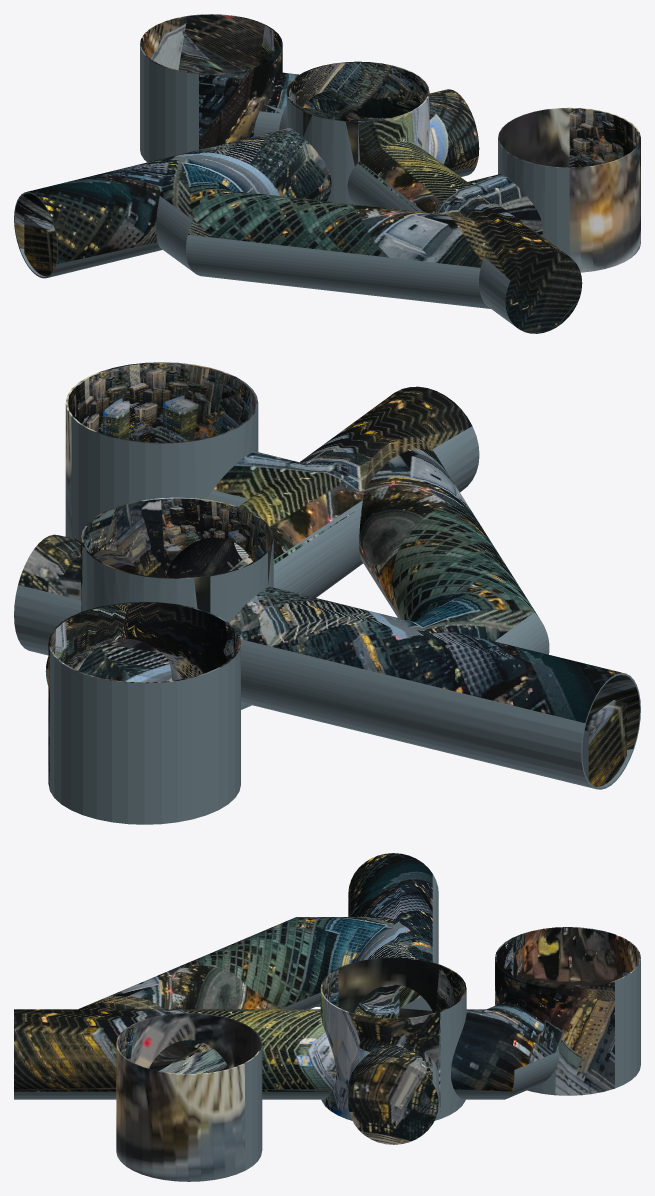
The model's file is pipenet_shortloop.dae.
The picture shows the model from 3 angles, top to bottom: view 1: azimuth 30°, elevation 25°; view 2: azimuth 150°, elevation 25°; view 3: azimuth 270°, elevation 25°; orthographic projection. The views are drawn at different scales.
Parts seen in each view (by area): view 1: pipeICAIR loop; view 2: pipeICAIR loop; view 3: pipeICAIR loop.
Part boxes in pixels (x1=…): pipeICAIR loop: x1=14, y1=14, x2=640, y2=333; pipeICAIR loop: x1=14, y1=362, x2=640, y2=824; pipeICAIR loop: x1=14, y1=853, x2=640, y2=1181.
Size of the model in its own units: 2 by 2.15 by 0.405.
1 material, 1 textured.
